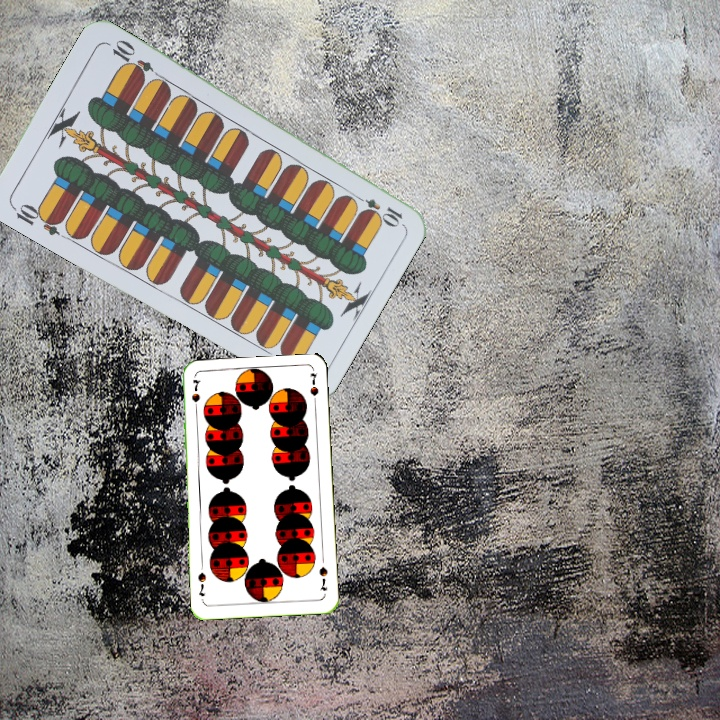E10: (8, 199, 65, 238), (349, 190, 405, 228)
S7: (188, 375, 202, 415), (315, 563, 330, 593)
